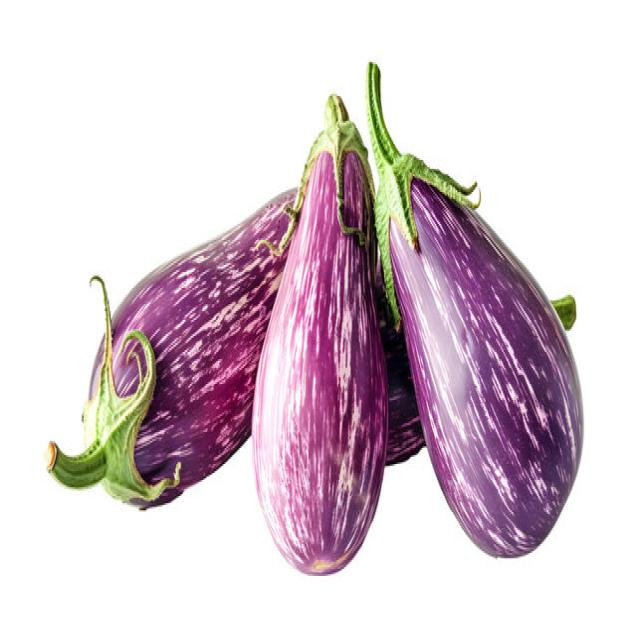Eggplant: (362, 66, 582, 565), (46, 183, 300, 510), (251, 91, 389, 576)
